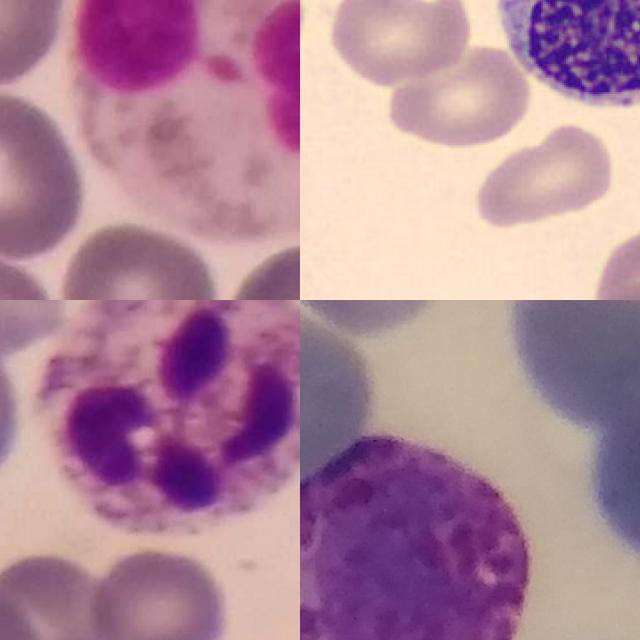Basophil: (300, 434, 530, 640)
Eosinophil: (71, 0, 300, 240)
Monocyte: (482, 0, 640, 120)
Neutrophil: (41, 300, 300, 539)
RBC: (381, 39, 536, 152), (469, 119, 620, 230), (322, 0, 478, 86), (587, 222, 640, 300), (589, 282, 640, 300)
